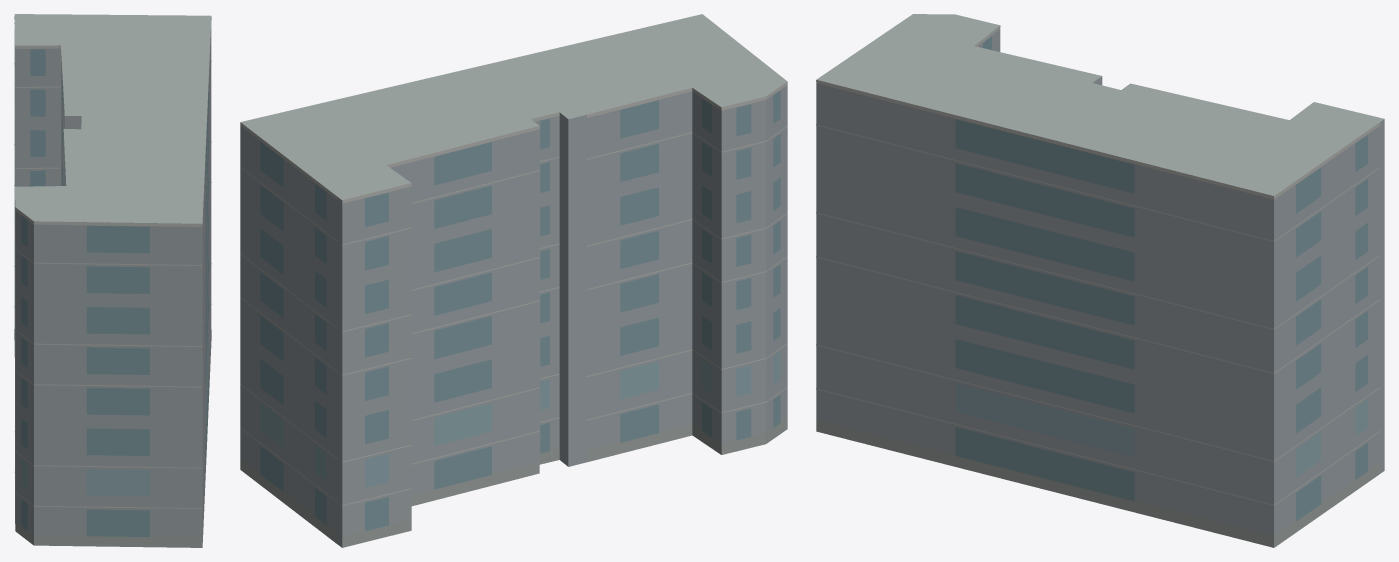
Rendered from survey-upis-32747746.glb.
The picture shows the model from 3 angles, left to right: view 1: azimuth 30°, elevation 25°; view 2: azimuth 150°, elevation 25°; view 3: azimuth 270°, elevation 25°; orthographic projection. The views are drawn at different scales.
Visible parts, largest first — view 1: survey-upis-32747746.tmp; view 2: survey-upis-32747746.tmp; view 3: survey-upis-32747746.tmp.
Boxes of the visible parts, x1,y1,x2,y2 form: survey-upis-32747746.tmp: [14, 14, 211, 547]; survey-upis-32747746.tmp: [240, 14, 787, 547]; survey-upis-32747746.tmp: [816, 14, 1384, 547].
Bounding box in the file's own units: 27.12 × 24.4 × 35.76.
